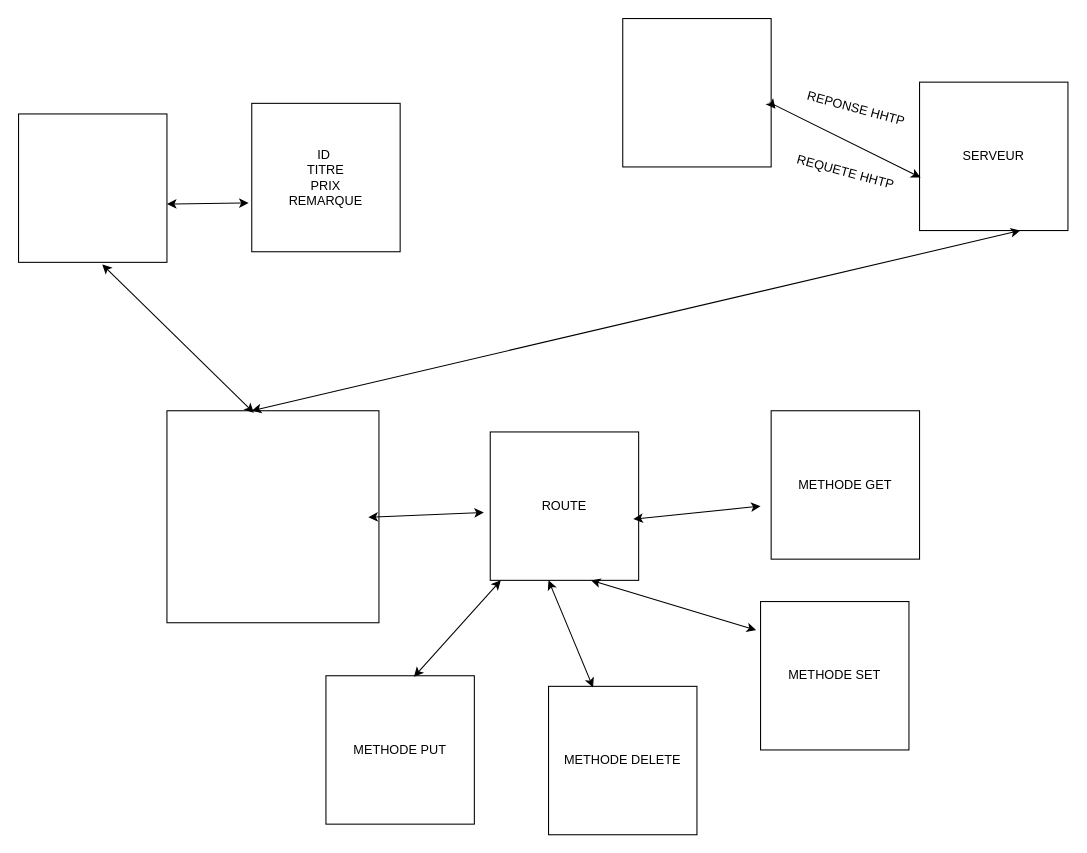
This 1087x853 diagram has some shape labels left out. The shapes that lost their labels are listed below. From the top down, each one's box as (x1, y1, x2, y2) in pixels, then its label:
(622, 17, 771, 167): CLIIENT
(17, 113, 167, 262): MODELS BOOK
(166, 410, 379, 623): CONTROLLEURS
